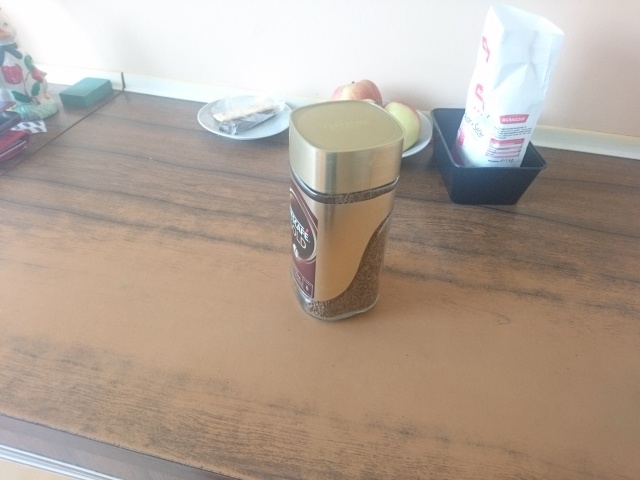Nescafe Gold 225g: (285, 97, 407, 325)
